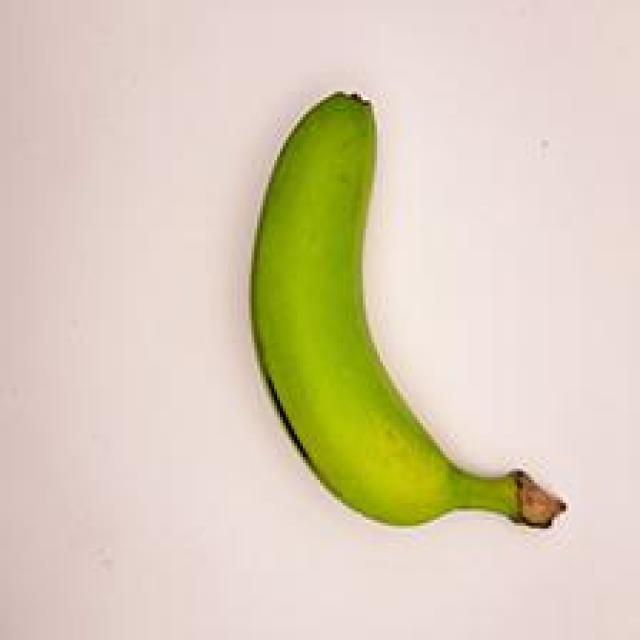unripe: (200, 62, 590, 548)
